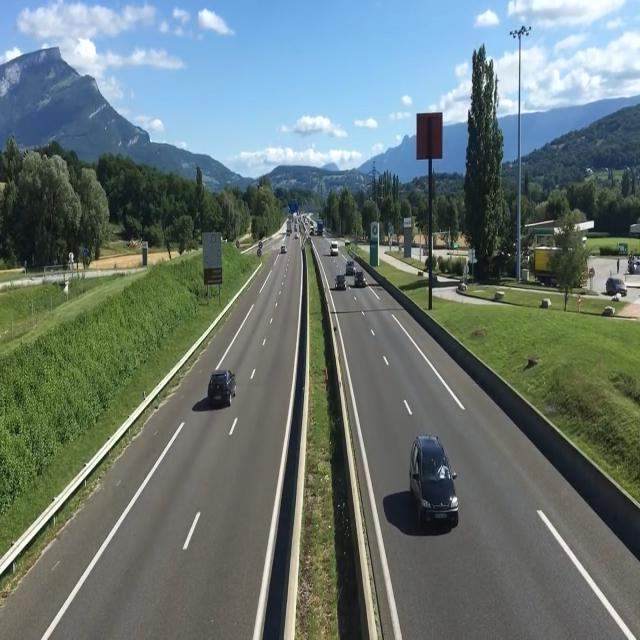Car: (409, 436, 460, 527), (207, 368, 237, 408), (605, 277, 628, 297), (354, 270, 366, 288), (334, 275, 347, 291), (346, 260, 356, 276), (280, 246, 288, 253)
Van: (329, 241, 339, 256)
